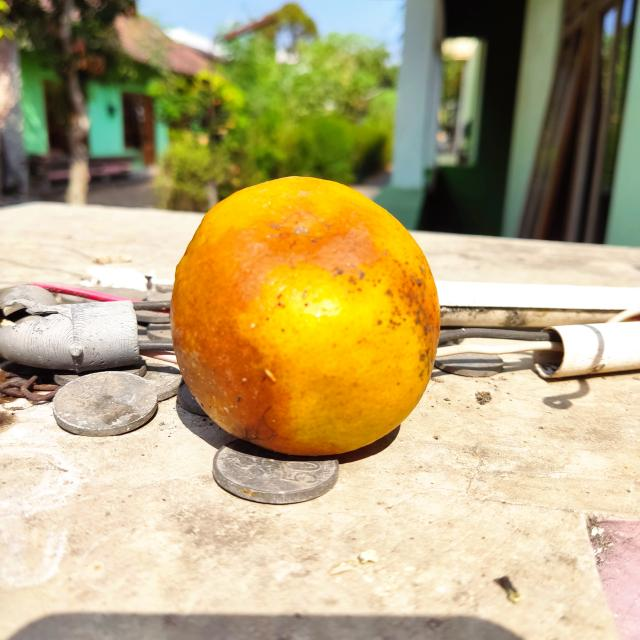orange: (169, 174, 440, 456)
